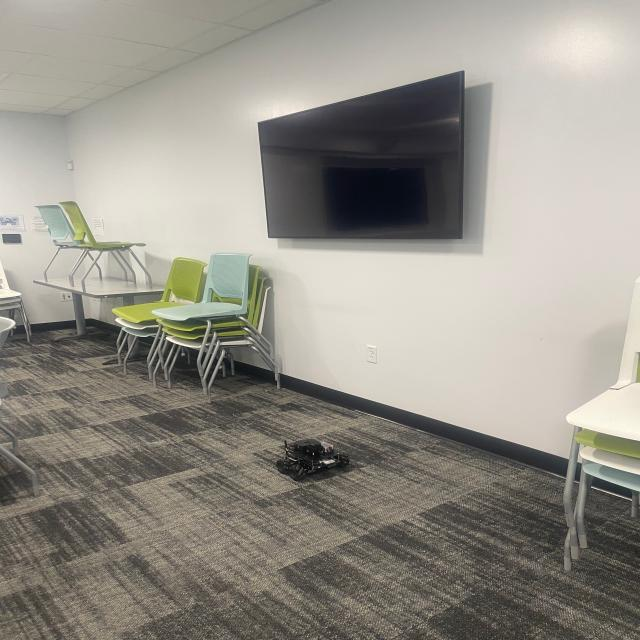ArduinoCar: (266, 428, 352, 484)
